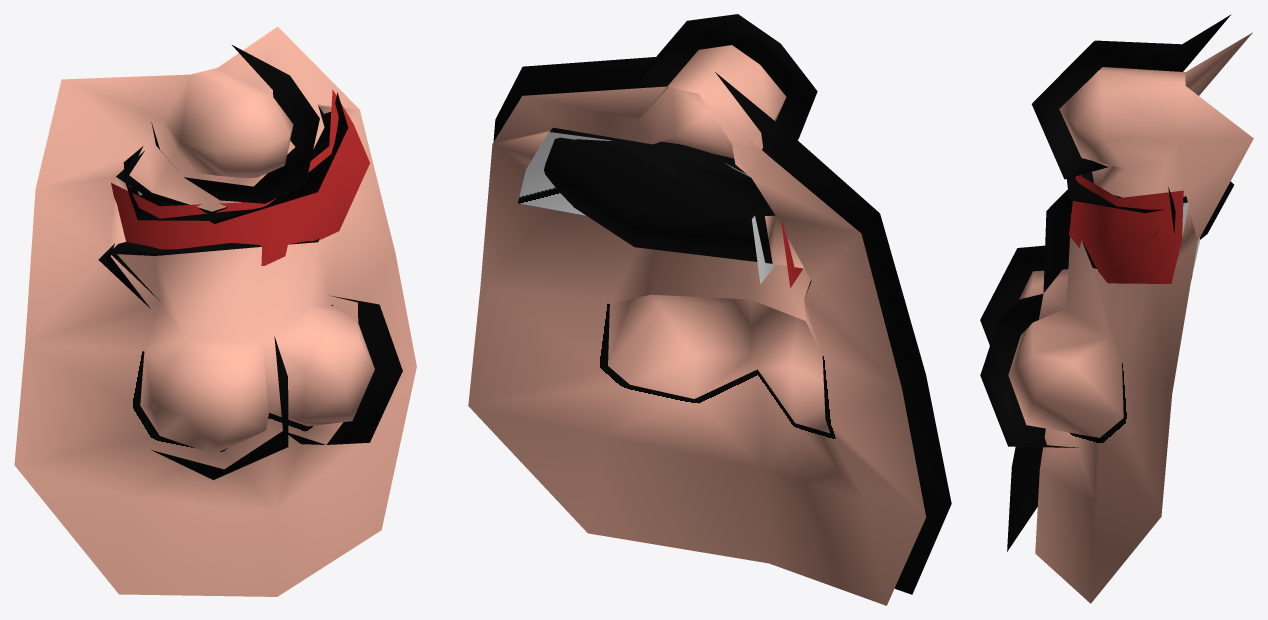
File: mouth_10.obj
3 renders of one model, left to right at view 1: azimuth 30°, elevation 25°; view 2: azimuth 150°, elevation 25°; view 3: azimuth 270°, elevation 25°, orthographic. The views are drawn at different scales.
Parts seen in each view (by area): view 1: Mesh_0089.003_Mesh_0089Mesh.003, Mesh_0092.001_Mesh_0092Mesh.001, Mesh_0090.004_Mesh_0090Mesh.004; view 2: Mesh_0089.003_Mesh_0089Mesh.003, Mesh_0092.001_Mesh_0092Mesh.001, Mesh_0091.001_Mesh_0091Mesh.001; view 3: Mesh_0089.003_Mesh_0089Mesh.003, Mesh_0092.001_Mesh_0092Mesh.001, Mesh_0090.004_Mesh_0090Mesh.004.
Boxes of the visible parts, bbox=[...] form: Mesh_0089.003_Mesh_0089Mesh.003: bbox=[14, 26, 416, 596]; Mesh_0092.001_Mesh_0092Mesh.001: bbox=[98, 45, 402, 479]; Mesh_0090.004_Mesh_0090Mesh.004: bbox=[111, 89, 369, 265]; Mesh_0089.003_Mesh_0089Mesh.003: bbox=[468, 45, 926, 605]; Mesh_0092.001_Mesh_0092Mesh.001: bbox=[493, 14, 951, 594]; Mesh_0091.001_Mesh_0091Mesh.001: bbox=[518, 132, 775, 284]; Mesh_0089.003_Mesh_0089Mesh.003: bbox=[1008, 32, 1253, 603]; Mesh_0092.001_Mesh_0092Mesh.001: bbox=[980, 14, 1231, 551]; Mesh_0090.004_Mesh_0090Mesh.004: bbox=[1069, 174, 1183, 283].
Size of the model in its own units: 0.3672 by 0.4169 by 0.204.
Materials: 4 (4 with a texture image).
